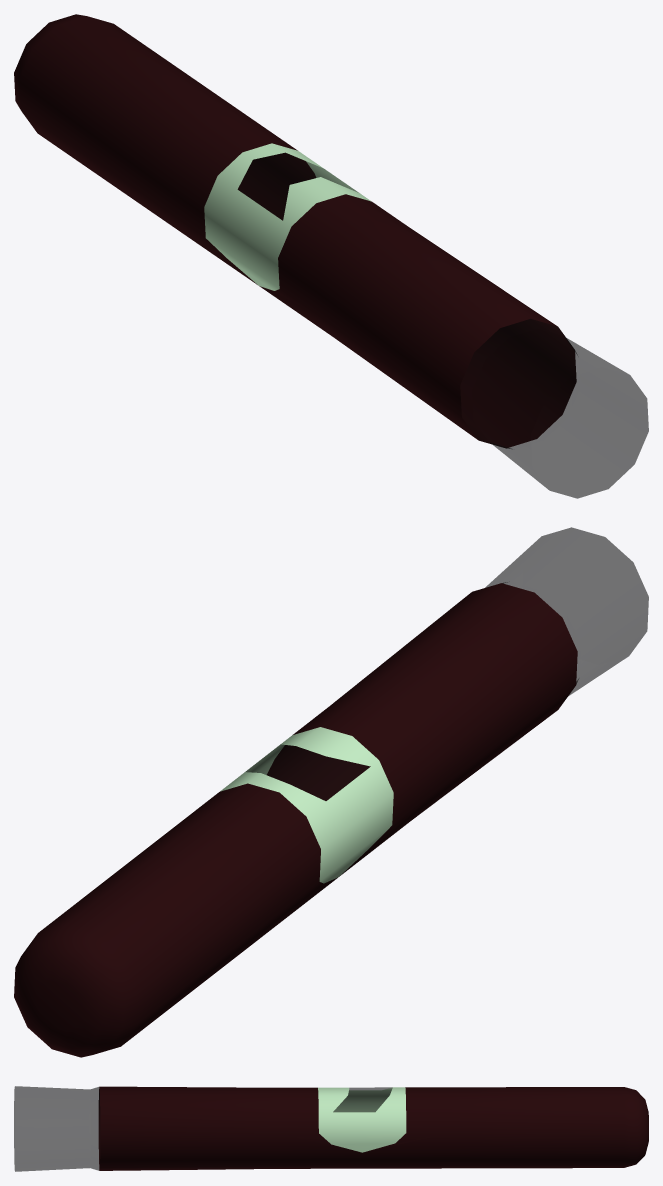
Rendered from cigar.fbx.
The picture shows the model from 3 angles, top to bottom: view 1: azimuth 30°, elevation 25°; view 2: azimuth 150°, elevation 25°; view 3: azimuth 270°, elevation 25°; orthographic projection. The views are drawn at different scales.
Visible parts, largest first — view 1: cigar; view 2: cigar; view 3: cigar.
Part boxes in pixels (bbox=[...]): cigar: bbox=[14, 14, 648, 498]; cigar: bbox=[14, 527, 648, 1057]; cigar: bbox=[14, 1086, 648, 1171].
Size of the model in its own units: 3.1 by 2.84 by 20.93.
